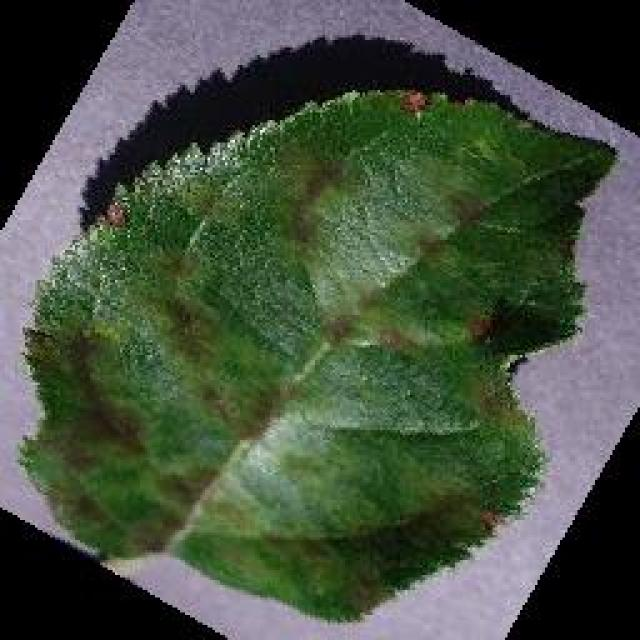apple scab disease: (15, 78, 620, 622)
